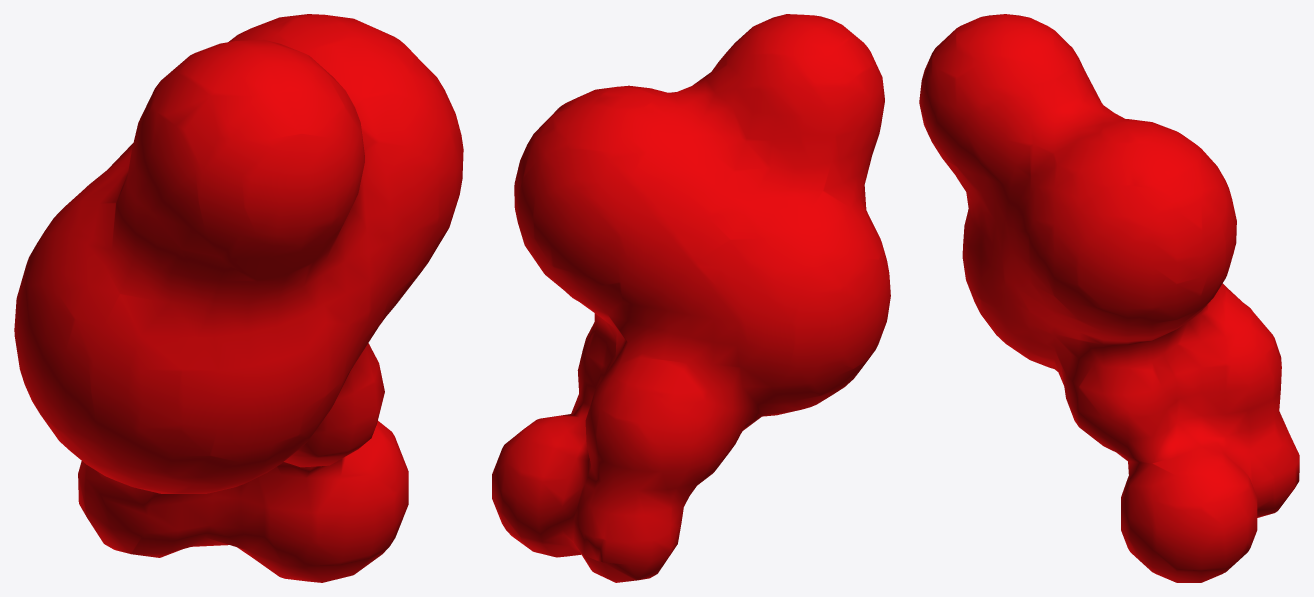
Rendered from blob3.glb.
3 renders of one model, left to right at view 1: azimuth 30°, elevation 25°; view 2: azimuth 150°, elevation 25°; view 3: azimuth 270°, elevation 25°, orthographic. The views are drawn at different scales.
Visible parts, largest first — view 1: Mball.007; view 2: Mball.007; view 3: Mball.007.
Part boxes in pixels (bbox=[...]): Mball.007: bbox=[14, 14, 463, 582]; Mball.007: bbox=[492, 14, 890, 582]; Mball.007: bbox=[919, 14, 1299, 582].
Size of the model in its own units: 15.48 by 22.53 by 15.99.
